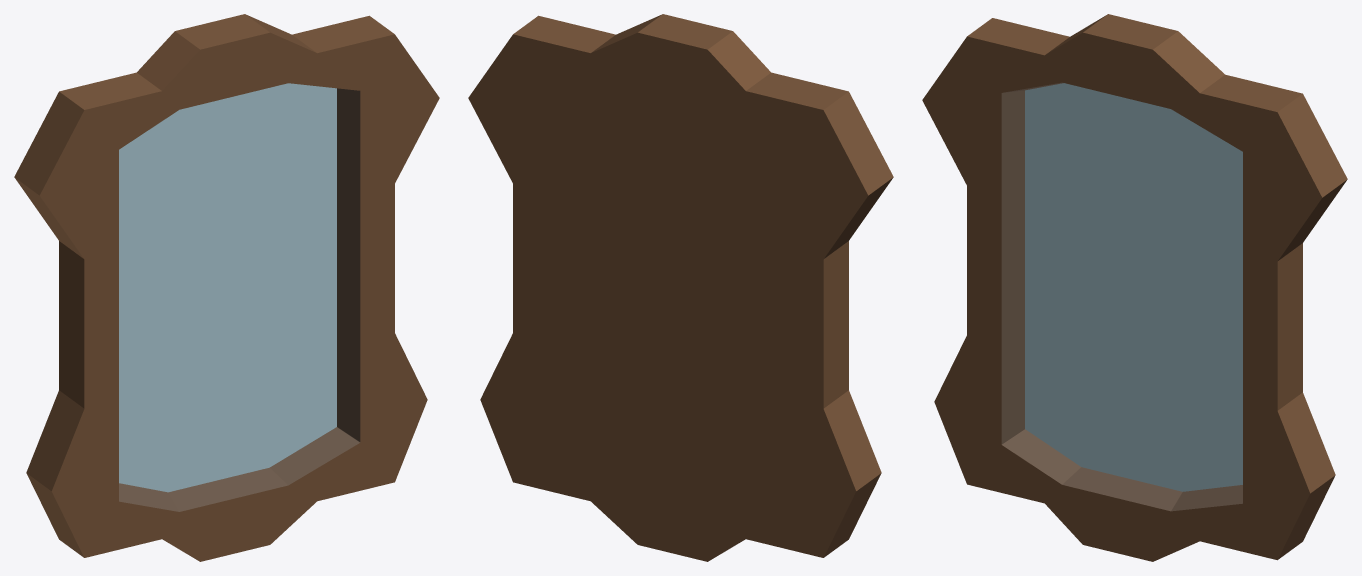
Rendered from Mirror_6.fbx.
3 renders of one model, left to right at view 1: azimuth 30°, elevation 25°; view 2: azimuth 150°, elevation 25°; view 3: azimuth 330°, elevation 25°, orthographic.
Parts seen in each view (by area): view 1: Mirror_6; view 2: Mirror_6; view 3: Mirror_6.
Boxes of the visible parts, bbox=[...] form: Mirror_6: bbox=[14, 14, 439, 561]; Mirror_6: bbox=[468, 14, 893, 561]; Mirror_6: bbox=[922, 14, 1347, 561].
Size of the model in its own units: 56.27 by 6.19 by 68.84.
